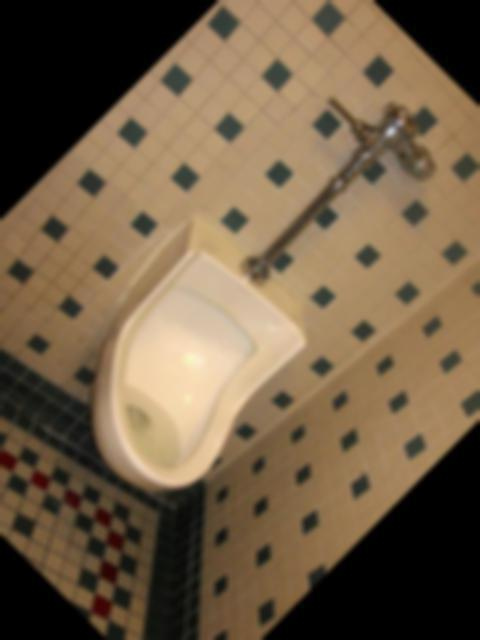Sanitario: (16, 188, 356, 528)
